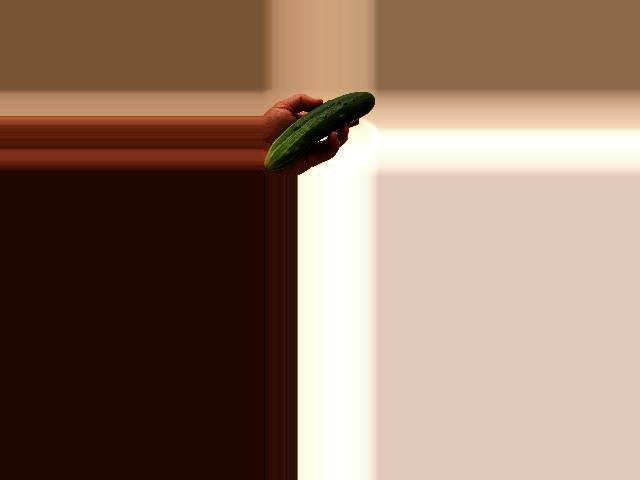cucumber: (265, 92, 375, 171)
